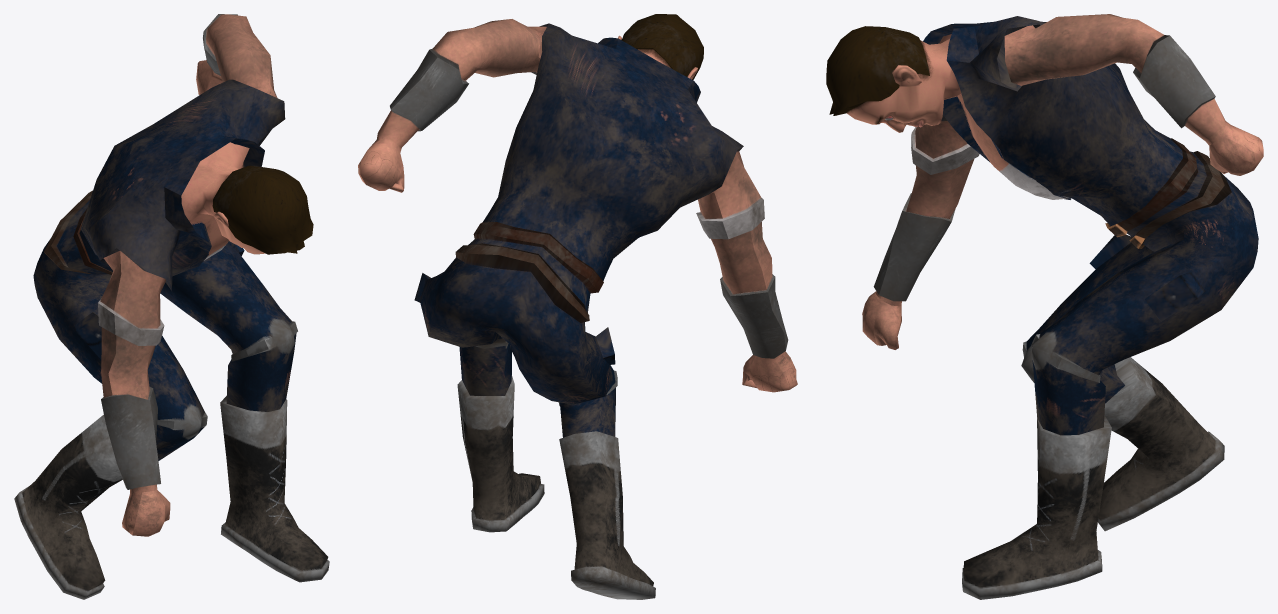
The model's file is Anim_coger_objeto_jugador.0027.obj.
The picture shows the model from 3 angles, left to right: view 1: azimuth 30°, elevation 25°; view 2: azimuth 150°, elevation 25°; view 3: azimuth 270°, elevation 25°; orthographic projection. The views are drawn at different scales.
Visible parts, largest first — view 1: polySurface1; view 2: polySurface1; view 3: polySurface1.
Part boxes in pixels (x1,y1,x2,y2): polySurface1: [14, 14, 329, 599]; polySurface1: [358, 14, 797, 599]; polySurface1: [826, 14, 1263, 599].
Bounding box in the file's own units: 3.7 × 7.06 × 4.75.
